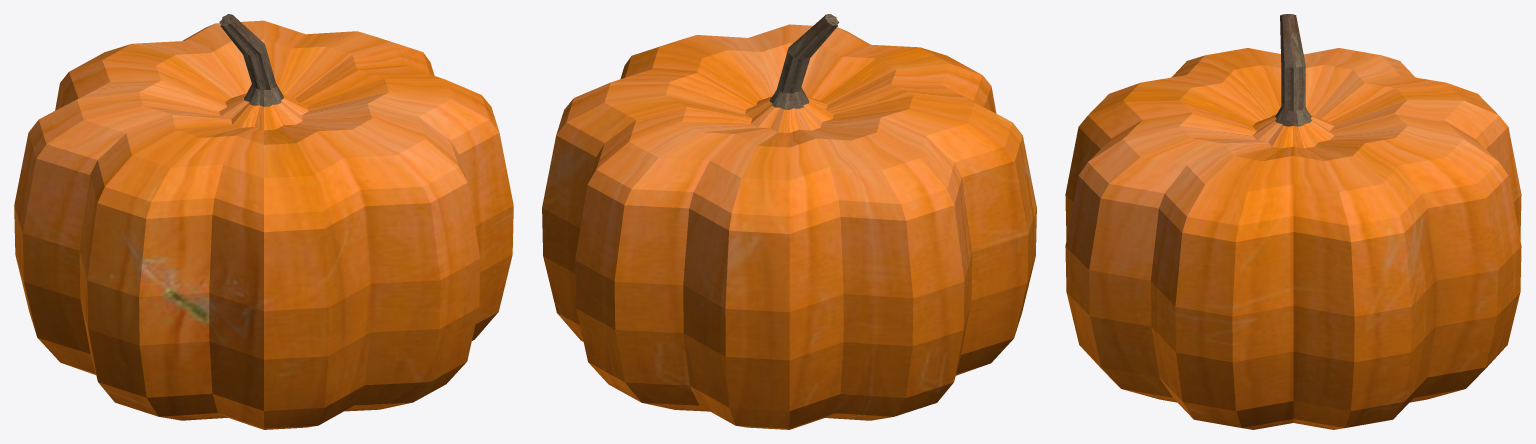
File: uploads_files_2116284_pumpkin.obj
3 views of the same model, side by side, from view 1: azimuth 30°, elevation 25°; view 2: azimuth 150°, elevation 25°; view 3: azimuth 270°, elevation 25° (orthographic). The views are drawn at different scales.
Visible parts, largest first — view 1: Cylinder; view 2: Cylinder; view 3: Cylinder.
Part boxes in pixels (x1=…): Cylinder: x1=14, y1=14, x2=513, y2=429; Cylinder: x1=542, y1=14, x2=1036, y2=429; Cylinder: x1=1065, y1=14, x2=1521, y2=429.
Bounding box in the file's own units: 1.9 × 1.59 × 1.9.
